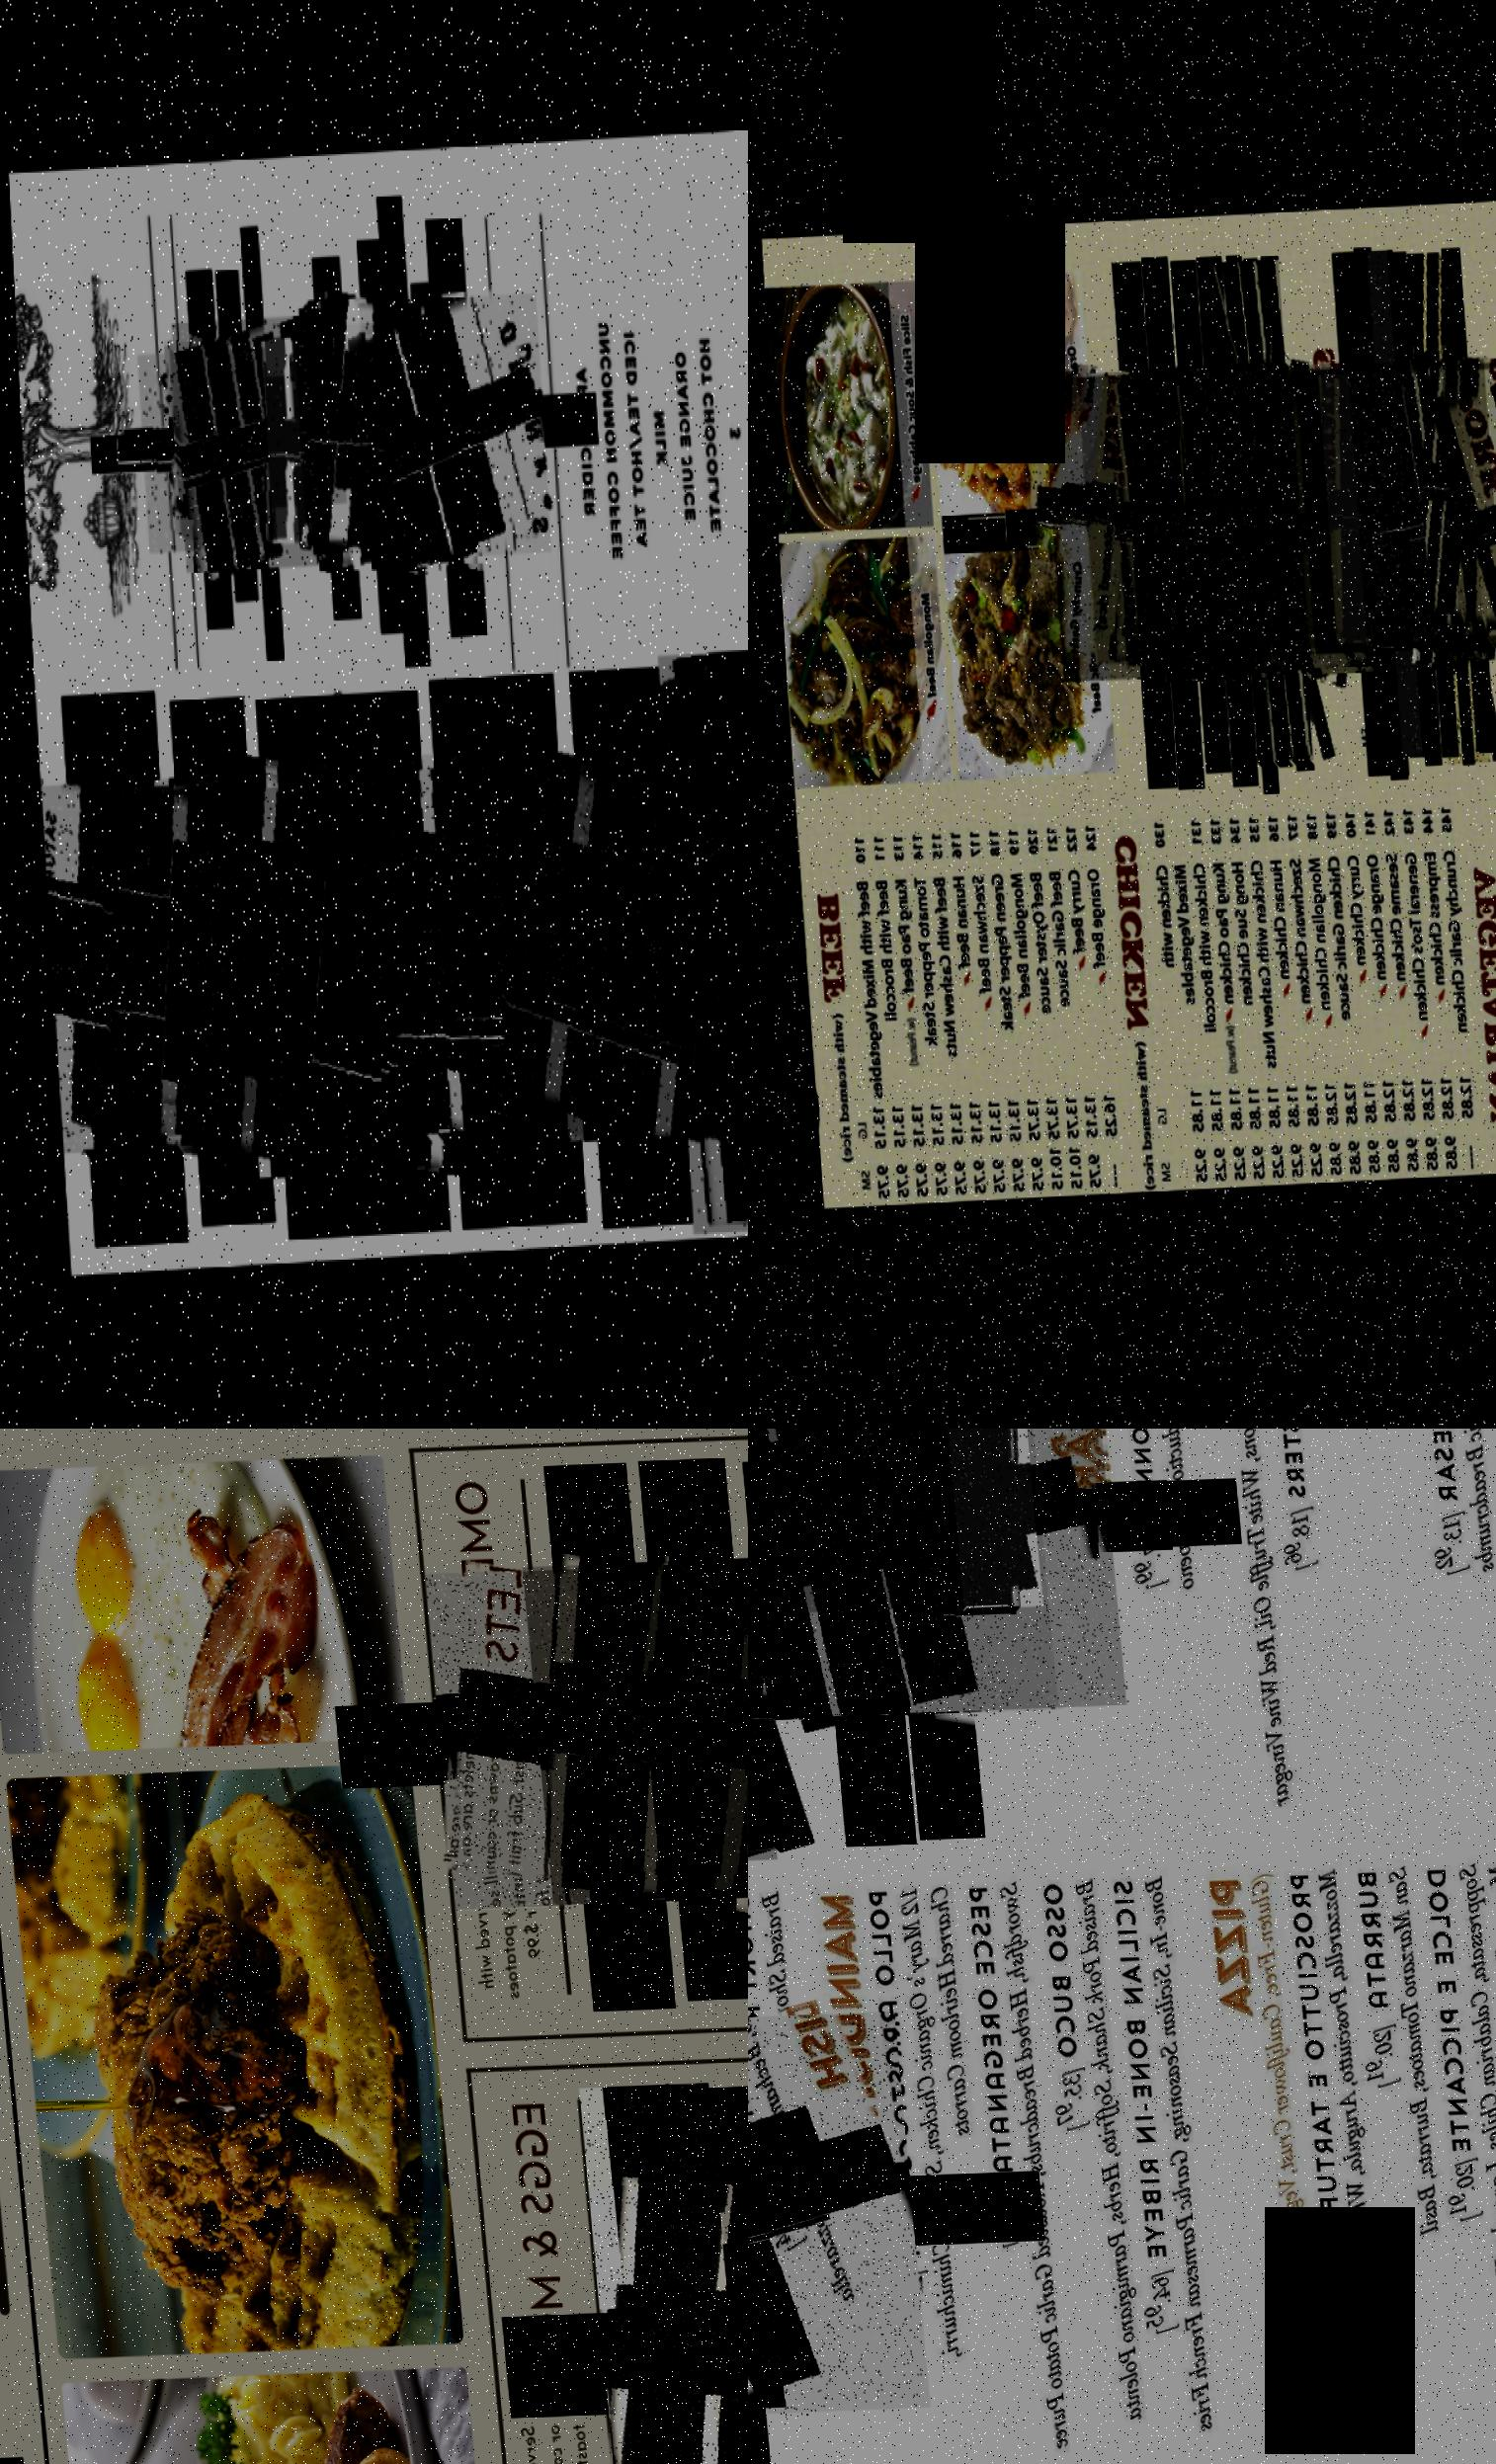Menu-Items: (192, 752, 493, 1181), (415, 1565, 748, 1915), (748, 1429, 1114, 1720), (484, 753, 748, 1148), (364, 762, 634, 1146), (748, 1429, 1045, 1728), (90, 785, 338, 1139), (32, 776, 252, 1160), (514, 1558, 748, 1906), (1040, 364, 1295, 683), (1119, 368, 1373, 683), (1012, 370, 1264, 683), (1230, 359, 1480, 674), (1250, 359, 1496, 672), (838, 1885, 975, 2413), (1074, 370, 1315, 669), (940, 1880, 1061, 2464), (1104, 375, 1339, 671), (561, 2086, 737, 2464), (748, 2013, 903, 2427), (1019, 1878, 1128, 2464), (1089, 1880, 1199, 2459), (1170, 377, 1392, 655), (1292, 364, 1496, 660), (1397, 1862, 1496, 2464), (649, 651, 748, 1236), (301, 292, 500, 574), (1258, 1873, 1360, 2383), (568, 2181, 748, 2464), (359, 296, 546, 563), (1315, 371, 1496, 644), (167, 315, 348, 572), (1165, 1429, 1278, 1827), (1220, 262, 1308, 769), (1345, 359, 1496, 649), (625, 1558, 748, 1899), (294, 319, 459, 554), (1327, 1866, 1424, 2269), (1408, 255, 1480, 767), (257, 334, 407, 546), (748, 1888, 808, 2401), (748, 1429, 905, 1621), (132, 348, 278, 553), (160, 333, 304, 539), (1364, 252, 1417, 760), (1408, 359, 1496, 648), (1139, 810, 1197, 1190), (1239, 1429, 1353, 1607), (1387, 1429, 1496, 1614), (920, 1429, 1028, 1614), (1089, 1429, 1188, 1612), (1426, 804, 1473, 1177), (834, 824, 880, 1202), (1067, 822, 1112, 1195), (1213, 804, 1257, 1188), (1010, 817, 1054, 1197), (1287, 806, 1331, 1184), (1385, 803, 1429, 1179), (855, 822, 898, 1204), (1440, 363, 1496, 648), (913, 822, 956, 1202), (398, 285, 452, 579), (1251, 810, 1294, 1186), (876, 827, 919, 1204), (1348, 806, 1390, 1181), (1269, 811, 1311, 1184), (1174, 808, 1214, 1192), (1309, 804, 1350, 1184), (970, 820, 1010, 1200), (933, 822, 973, 1202), (1236, 811, 1276, 1188), (1028, 817, 1068, 1193), (952, 824, 993, 1197), (991, 815, 1030, 1199), (1406, 806, 1445, 1181), (1329, 806, 1368, 1181), (1049, 824, 1088, 1195), (898, 825, 935, 1200), (1199, 817, 1236, 1188), (1369, 811, 1406, 1177), (260, 373, 356, 507), (266, 338, 297, 542), (340, 370, 373, 509)
